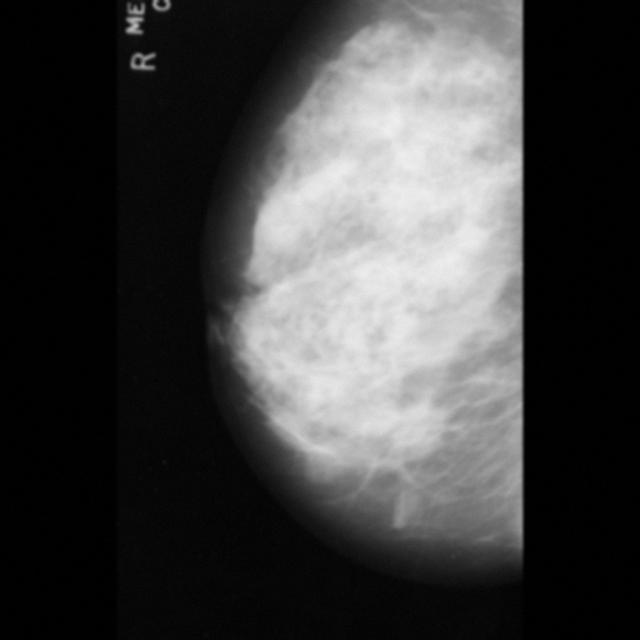CALC: (459, 116, 476, 134)
